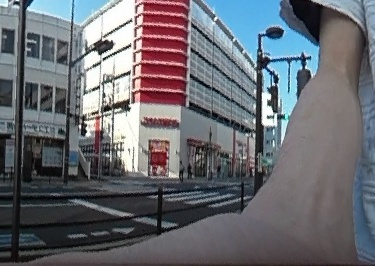person: (178, 159, 185, 179), (186, 161, 193, 178)
